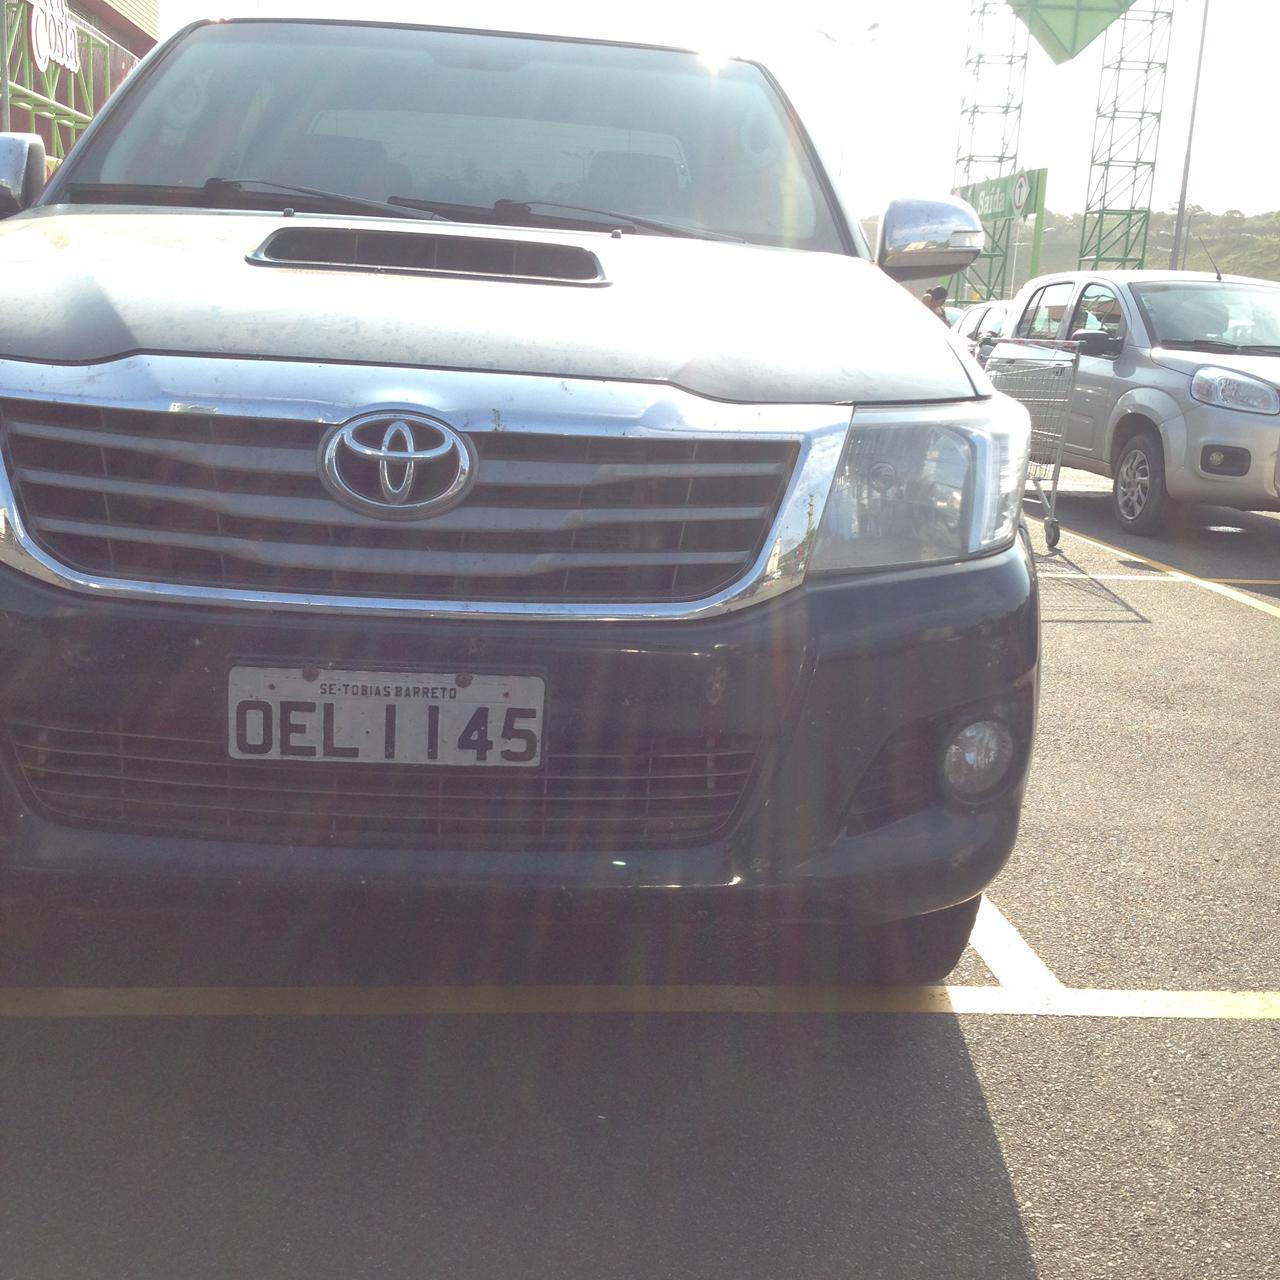placa de veiculo: (206, 626, 570, 833)
